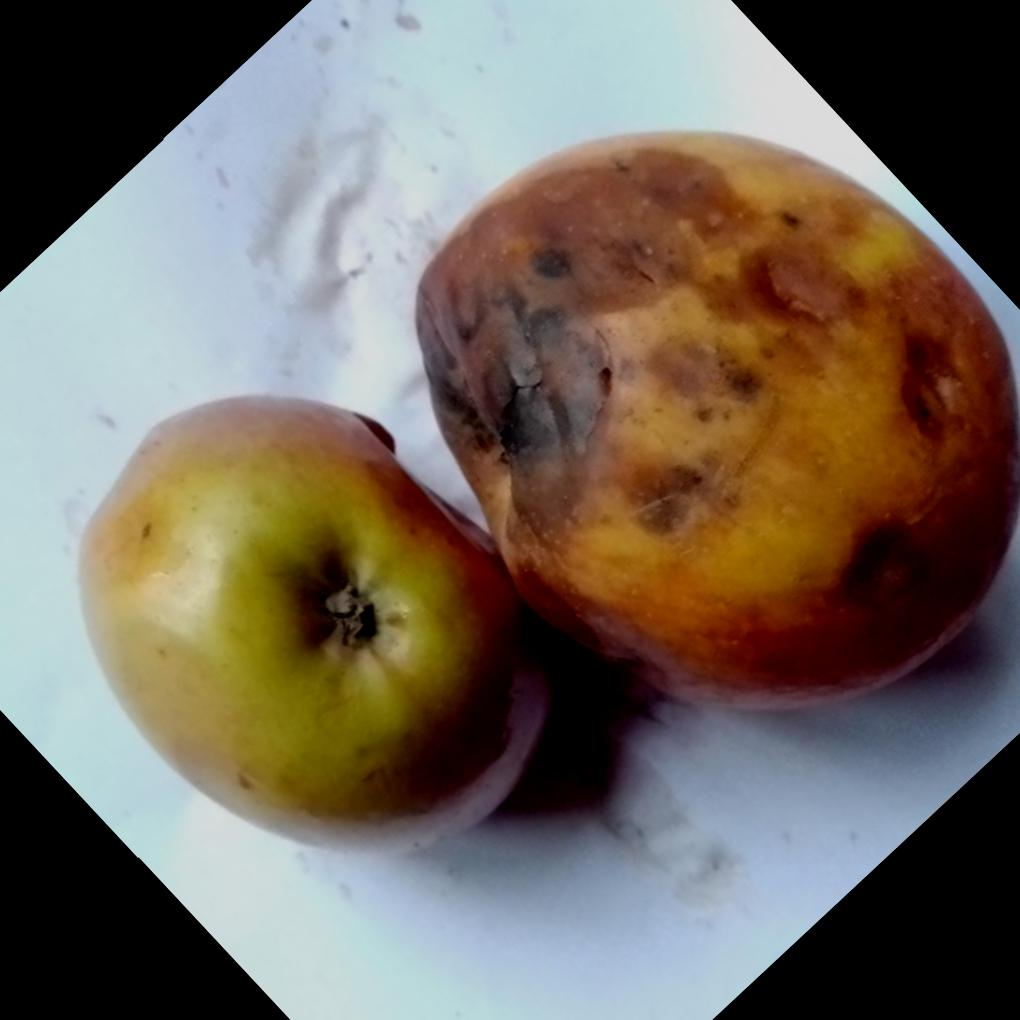FreshOrange: (70, 124, 1020, 851)
